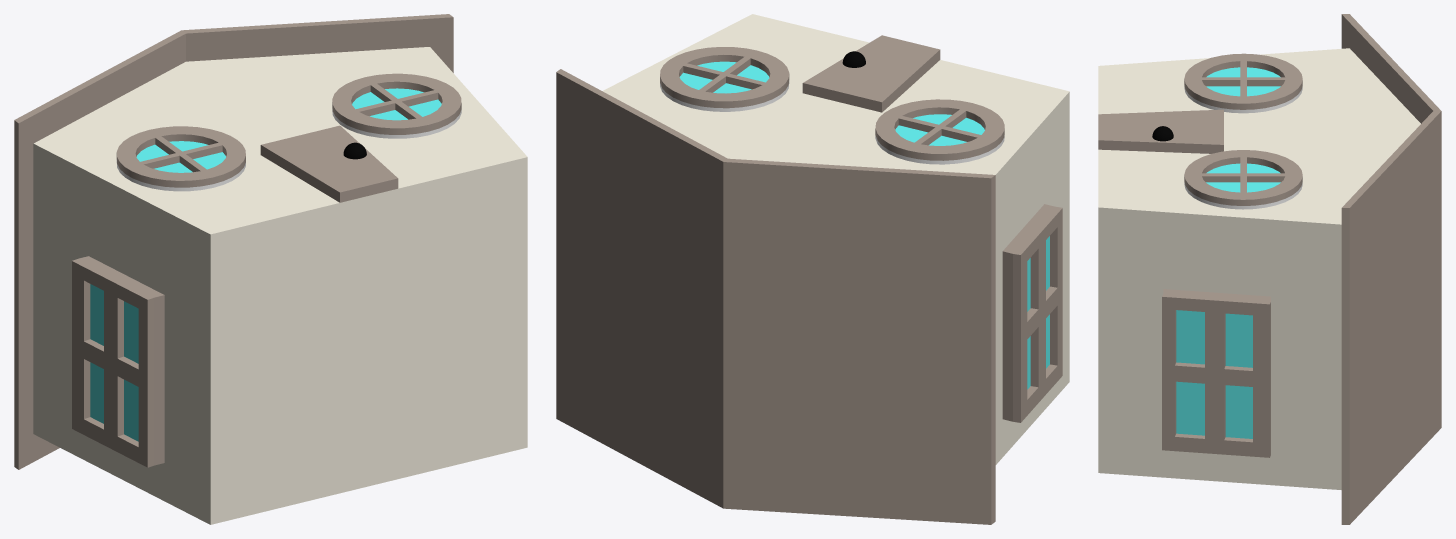
File: house.fbx
3 renders of one model, left to right at view 1: azimuth 30°, elevation 25°; view 2: azimuth 150°, elevation 25°; view 3: azimuth 270°, elevation 25°, orthographic. The views are drawn at different scales.
Visible parts, largest first — view 1: house; view 2: house; view 3: house.
Boxes of the visible parts, x1,y1,x2,y2 form: house: (14, 14, 527, 524); house: (556, 14, 1069, 524); house: (1098, 14, 1441, 524).
Bounding box in the file's own units: 66.54 × 50.68 × 49.73.
